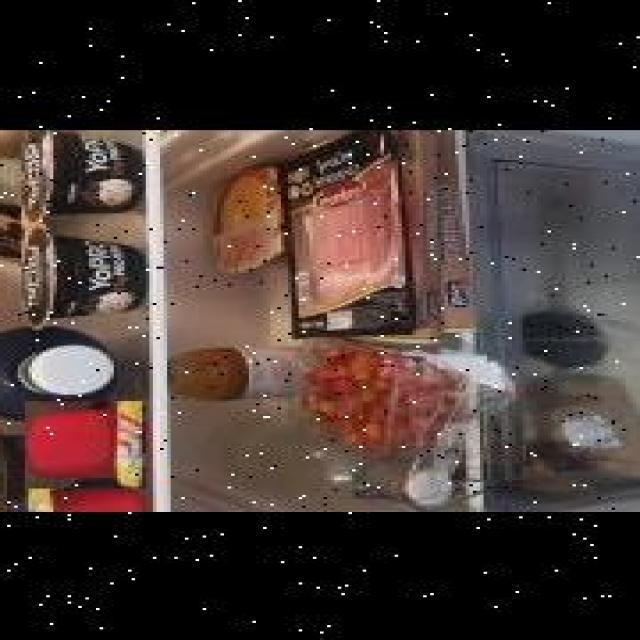tomato: (327, 393, 363, 418), (348, 350, 377, 380), (361, 420, 389, 446), (359, 400, 384, 421), (327, 376, 356, 394), (327, 354, 349, 376)
yogurt: (25, 399, 146, 486), (0, 162, 64, 258)
